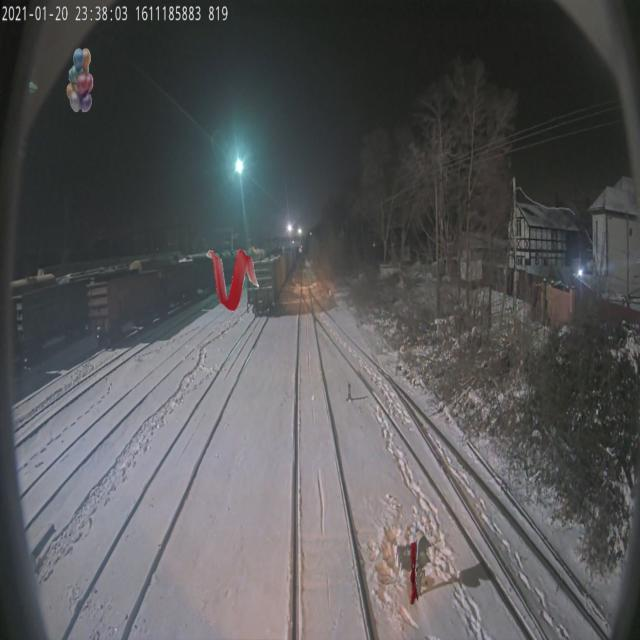balloon: (66, 48, 93, 112)
floating object: (206, 248, 260, 312), (410, 540, 419, 604)
